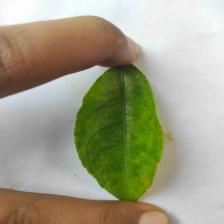greening: (93, 99, 149, 166)
